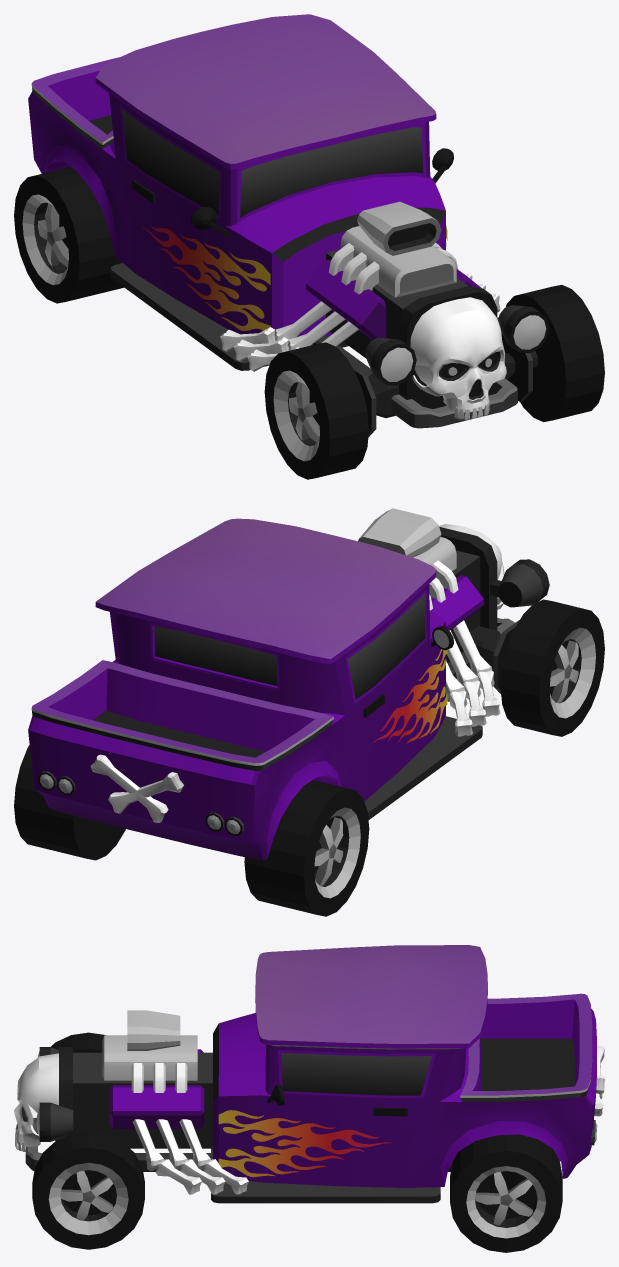
File: car2.fbx
3 renders of one model, top to bottom at view 1: azimuth 30°, elevation 25°; view 2: azimuth 150°, elevation 25°; view 3: azimuth 270°, elevation 25°, orthographic. The views are drawn at different scales.
Visible parts, largest first — view 1: Vinyls_Vinyls_0, FrontRightWheel_Material_0, RearRightWheel_Material_0, FrontLeftWheel_Material_0; view 2: Vinyls_Vinyls_0, RearRightWheel_Material_0, FrontRightWheel_Material_0, RearLeftWheel_Material_0; view 3: Vinyls_Vinyls_0, RearLeftWheel_Material_0, FrontLeftWheel_Material_0, FrontRightWheel_Material_0.
Boxes of the visible parts, <box> form: Vinyls_Vinyls_0: <box>28,14,549,437</box>; FrontRightWheel_Material_0: <box>264,342,368,479</box>; RearRightWheel_Material_0: <box>14,167,123,303</box>; FrontLeftWheel_Material_0: <box>505,285,604,421</box>; Vinyls_Vinyls_0: <box>28,508,549,859</box>; RearRightWheel_Material_0: <box>244,780,369,916</box>; FrontRightWheel_Material_0: <box>500,599,604,736</box>; RearLeftWheel_Material_0: <box>14,745,125,860</box>; Vinyls_Vinyls_0: <box>14,945,604,1203</box>; RearLeftWheel_Material_0: <box>450,1134,562,1252</box>; FrontLeftWheel_Material_0: <box>32,1131,144,1249</box>; FrontRightWheel_Material_0: <box>51,1032,105,1140</box>.
Bounding box in the file's own units: 193 × 153 × 395.
Materials: 2 (2 with a texture image).
